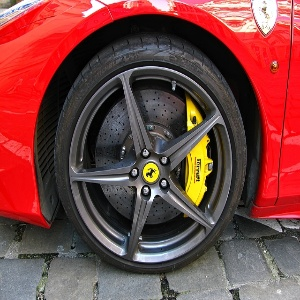tire: (50, 28, 249, 274)
